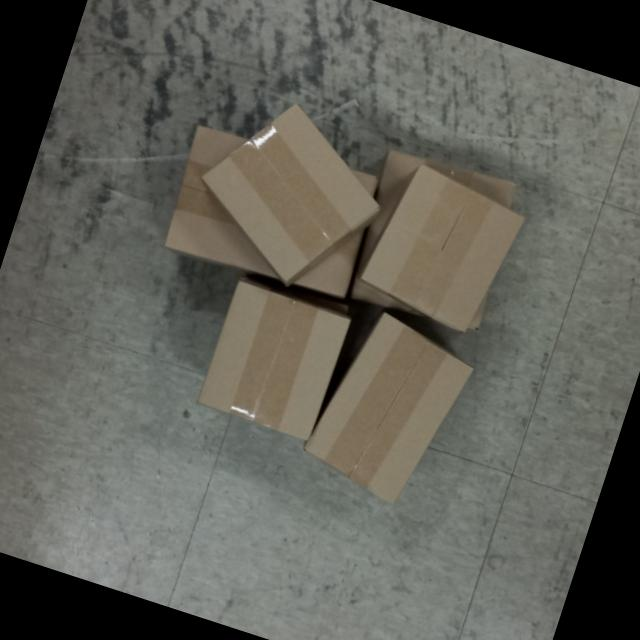box: (170, 71, 410, 312), (284, 290, 492, 526), (343, 148, 541, 350), (188, 270, 362, 452)
